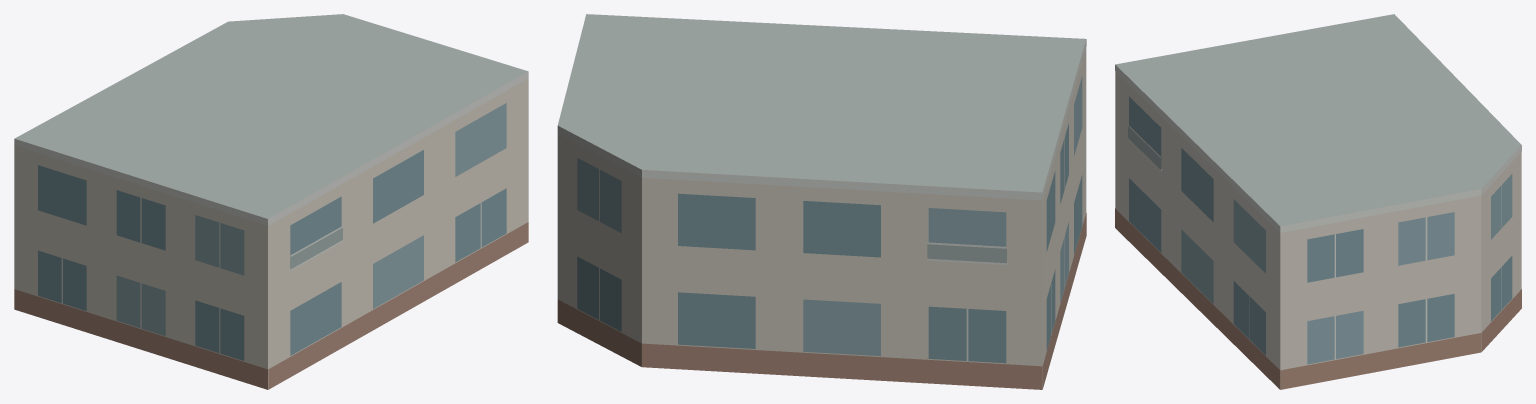
Rendered from survey-upis-32852111.glb.
3 renders of one model, left to right at view 1: azimuth 30°, elevation 25°; view 2: azimuth 150°, elevation 25°; view 3: azimuth 270°, elevation 25°, orthographic. The views are drawn at different scales.
Parts seen in each view (by area): view 1: survey-upis-32852111.tmp; view 2: survey-upis-32852111.tmp; view 3: survey-upis-32852111.tmp.
Boxes of the visible parts, left/top/right/bottom form: survey-upis-32852111.tmp: left=14, top=14, right=528, bottom=389; survey-upis-32852111.tmp: left=557, top=14, right=1086, bottom=389; survey-upis-32852111.tmp: left=1115, top=14, right=1521, bottom=389.
Bounding box in the file's own units: 17 × 6.1 × 13.75.
